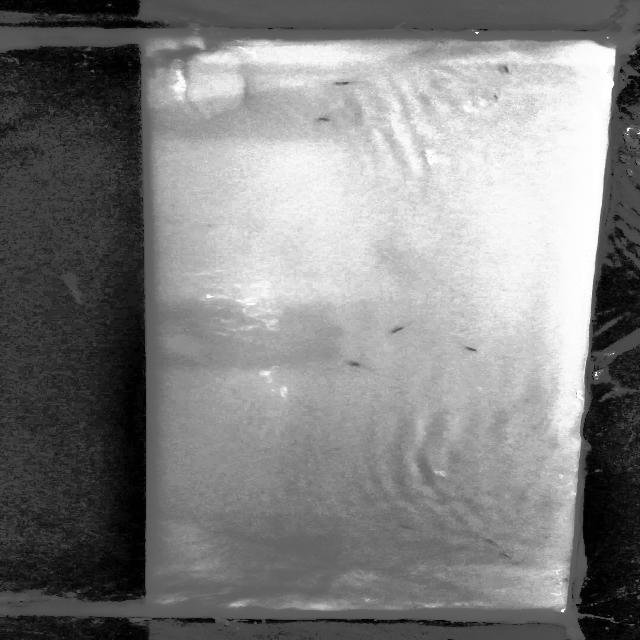shrimp: (326, 73, 384, 87), (468, 90, 511, 103), (390, 324, 421, 336), (316, 114, 346, 125), (396, 520, 419, 532), (462, 344, 480, 359), (480, 535, 501, 546), (498, 66, 518, 77), (497, 550, 514, 559), (346, 359, 365, 367)
